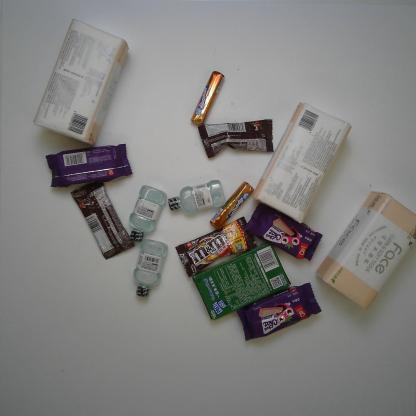Candy: (209, 180, 255, 235), (188, 66, 228, 122)
Chocolate: (68, 175, 136, 262), (175, 215, 256, 275), (201, 118, 280, 156)
Dessert: (194, 250, 295, 315), (234, 281, 322, 339), (43, 139, 131, 184), (250, 206, 322, 260)
Personal Hygiene: (125, 238, 171, 298), (124, 186, 170, 244), (169, 186, 226, 210)
Tissue: (321, 168, 413, 311), (32, 19, 130, 147), (248, 102, 352, 222)
